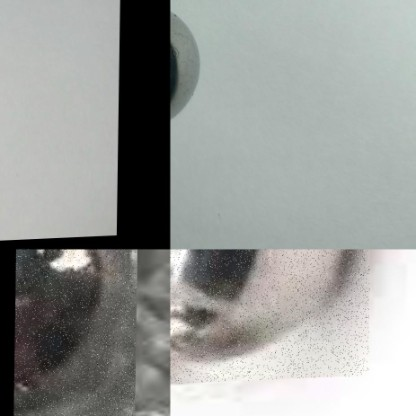ironball: (170, 249, 372, 387), (13, 249, 137, 415), (171, 2, 199, 120)
